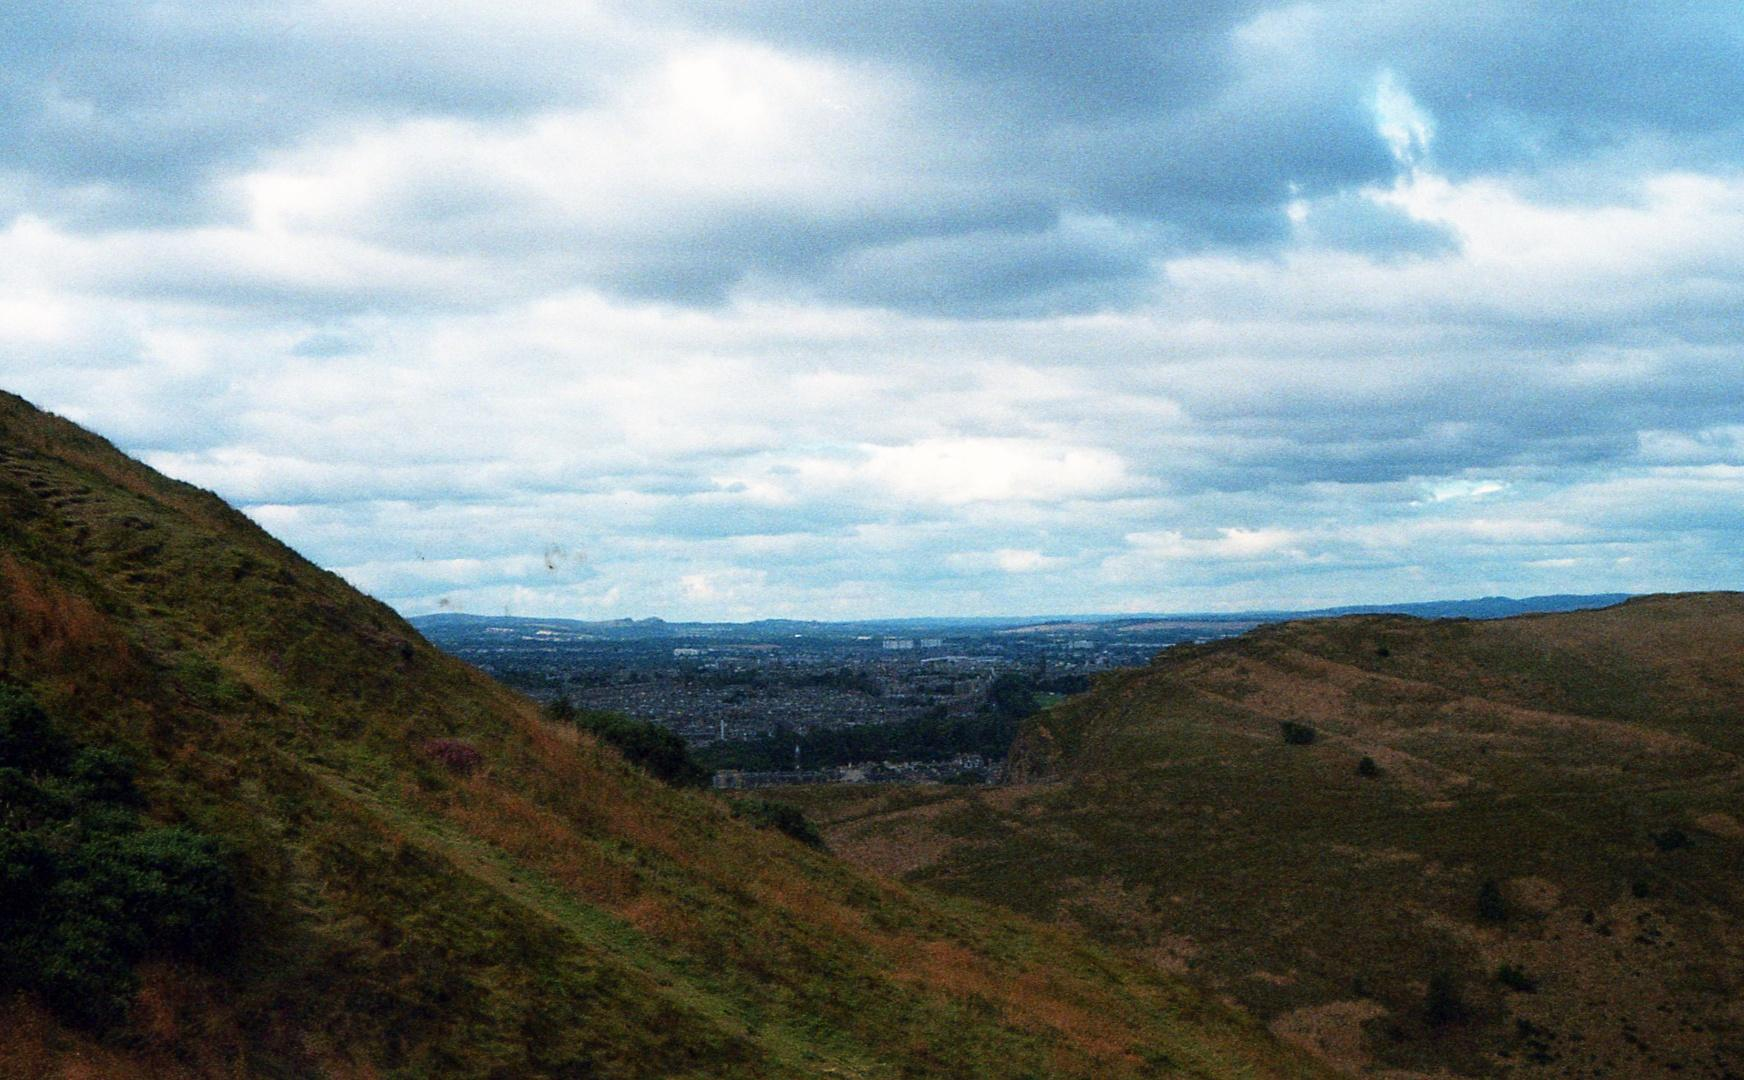trashbox-cardboard: (392, 503, 627, 651)
